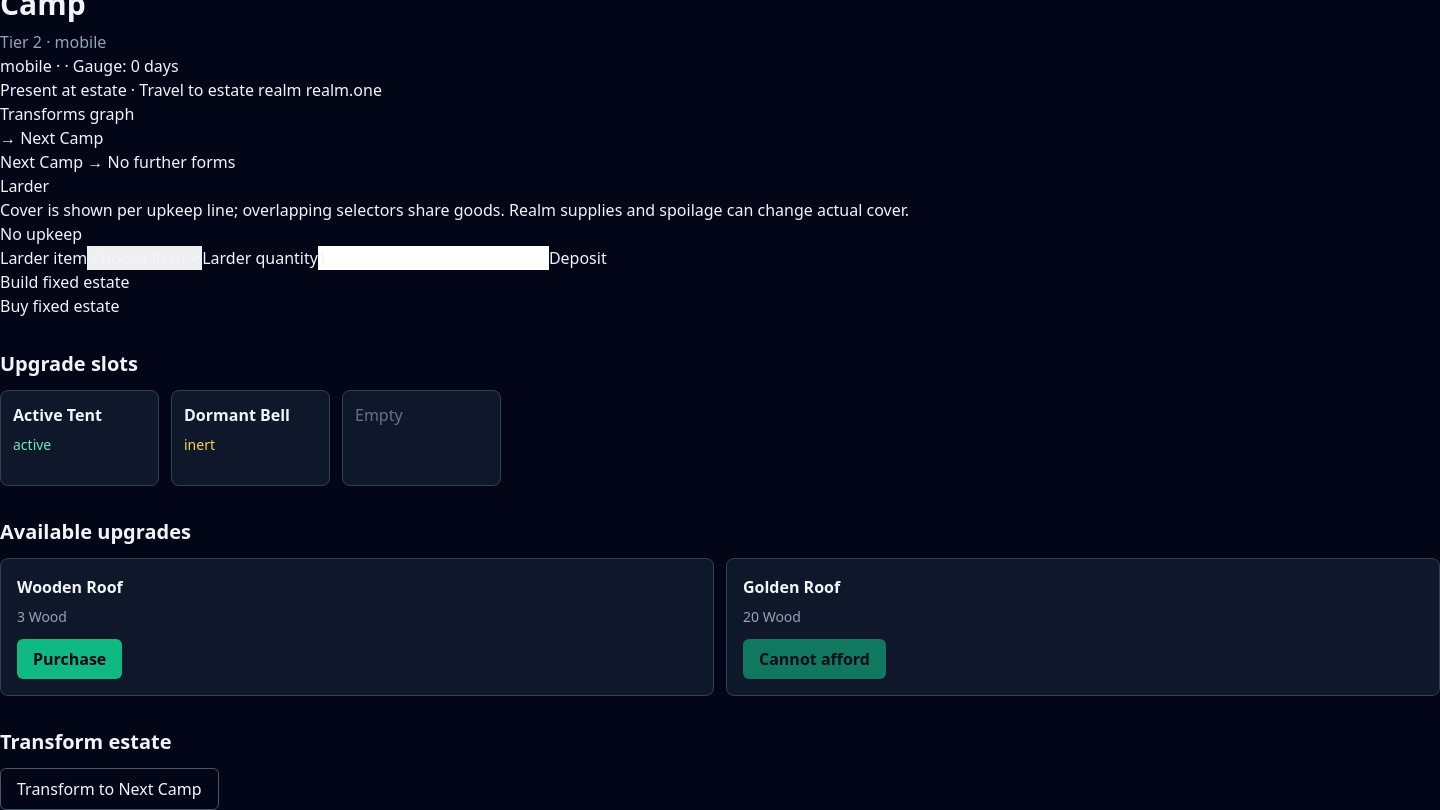
Test: estate panel › renders active, inert, and empty slots and gates upgrade affordability
This screenshot has width=1440, height=810.
(page scrolled)
Check: the text "Active Tent" is shown, box [13,404,102,426]
Check: the text "Dormant Bell" is shown, box [184,404,290,426]
Step 1. Click the button "Transform to Next Camp" → (109, 789), box [0,768,219,809]
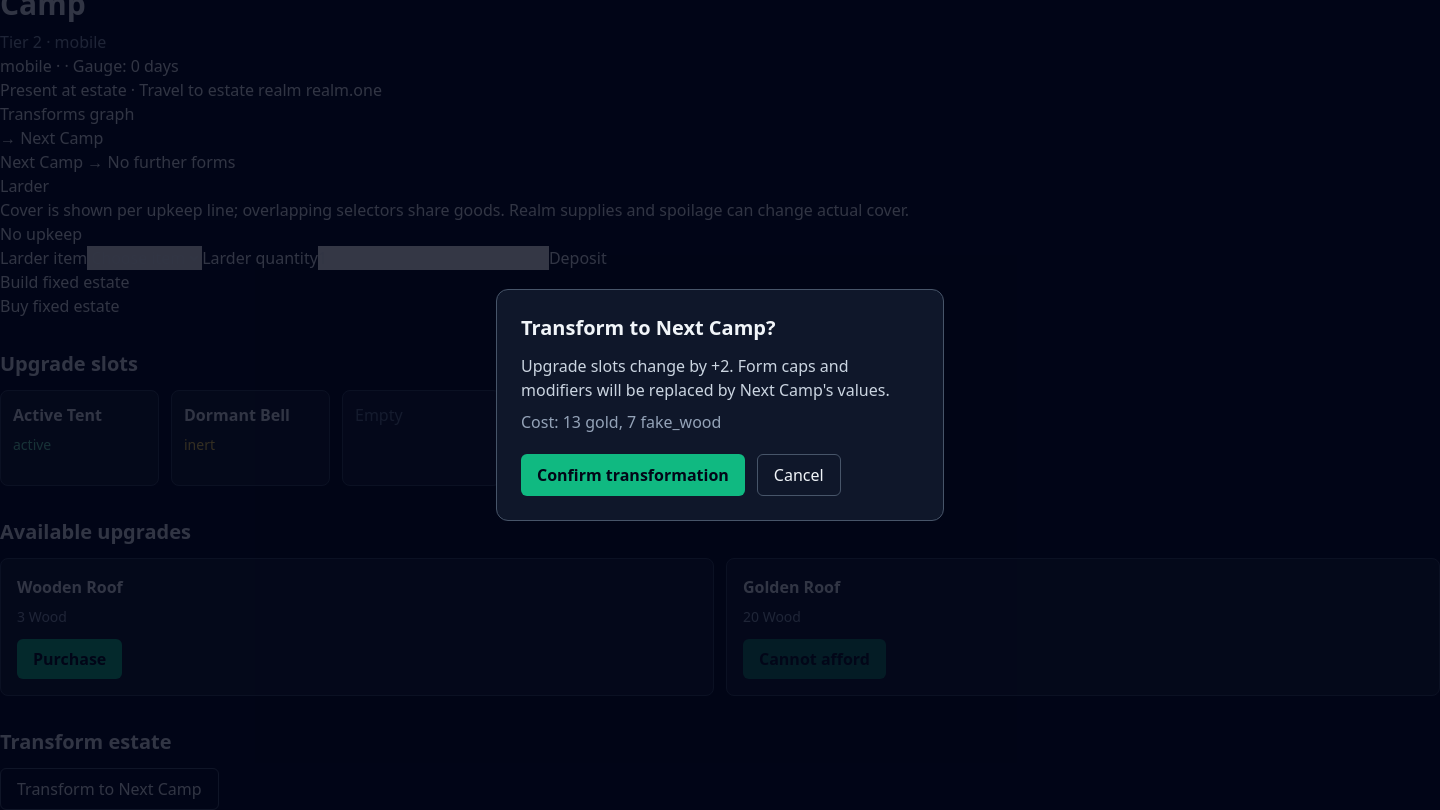
Check: the dialog shows "Cost: 13 gold, 7 fake_wood"
Check: the dialog shows "Upgrade slots change by +2"
